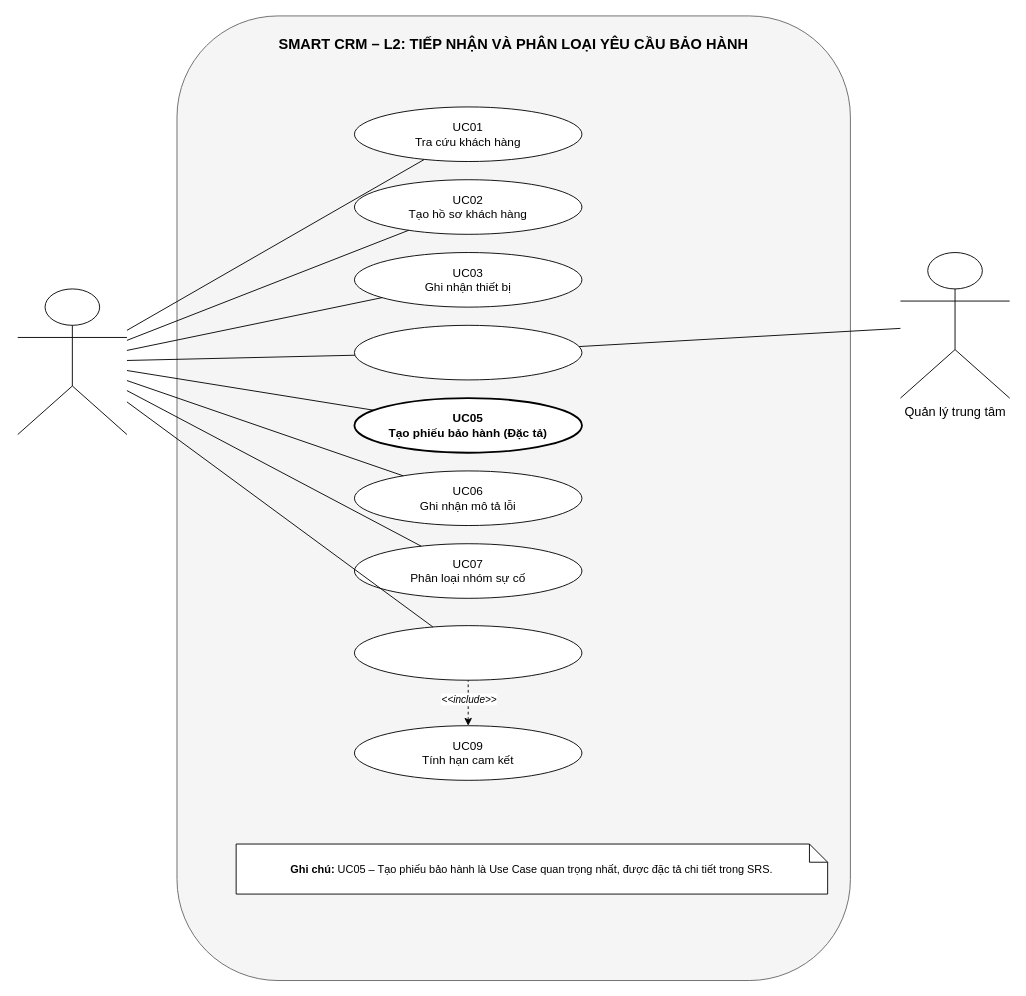
Some shapes in this 1026 by 996 pixel diagram are drawn without their labels. The centre of each missing label's shape, as x and y in pixels:
"Nhân viên tiếp nhận" goes at (72,361).
"UC04 Kiểm tra tình trạng bảo hành" goes at (468,352).
"UC08 Xác định mức ưu tiên" goes at (468,652).
